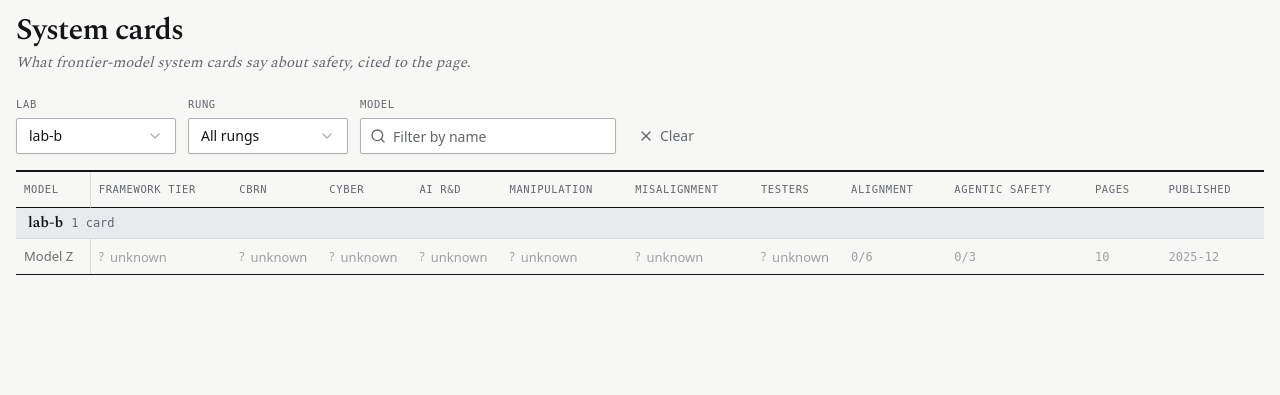
Test: clears every filter, and a name edit still in flight with them
This screenshot has width=1280, height=395.
Expected: the table is shown, [16,172,1264,274]
Type "y" into the search field at [488, 136], box [360,118,616,154]
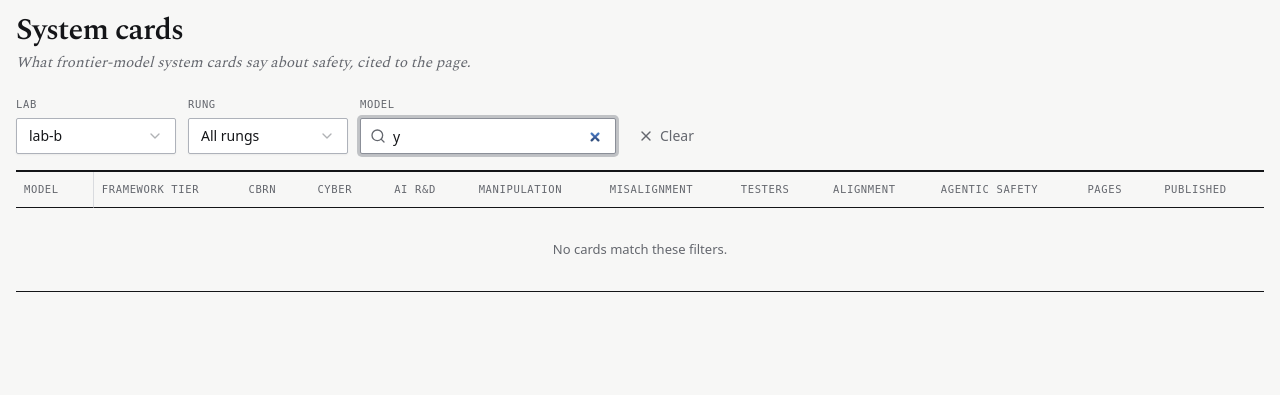
Replace the text in the search field with "yz" at [488, 136], box [360,118,616,154]
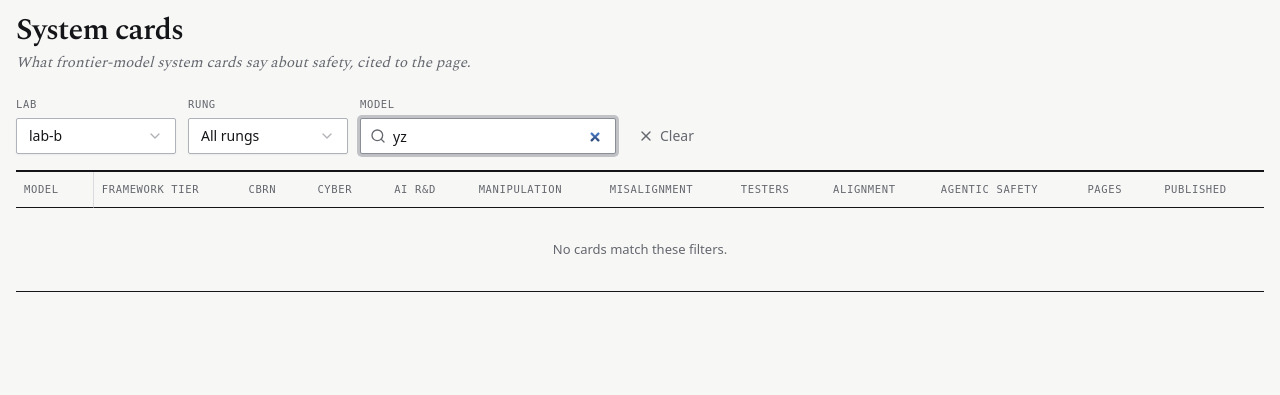
Click the button "Clear" at [666, 136], box [628,118,704,154]
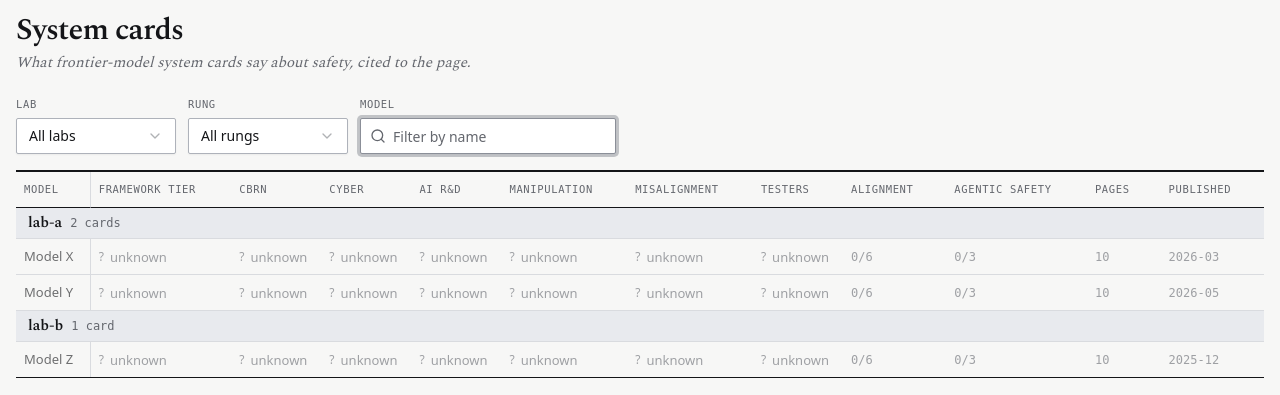
Expected: the search field is empty, [360,118,616,154]
